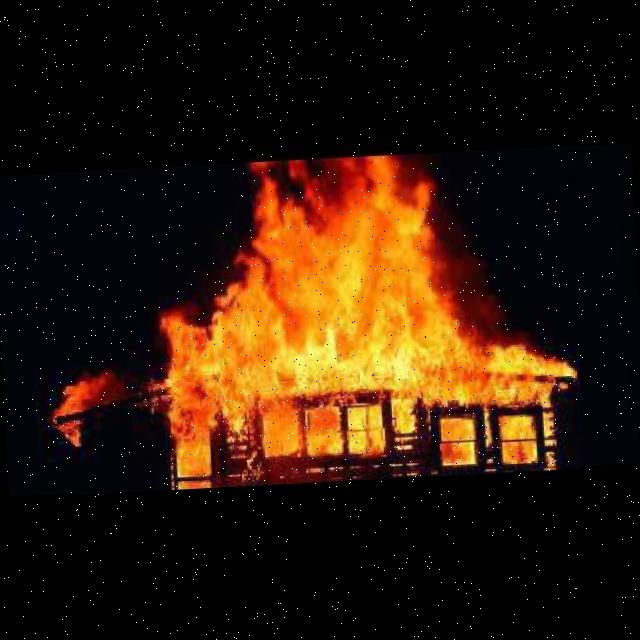fire: (51, 134, 582, 495)
